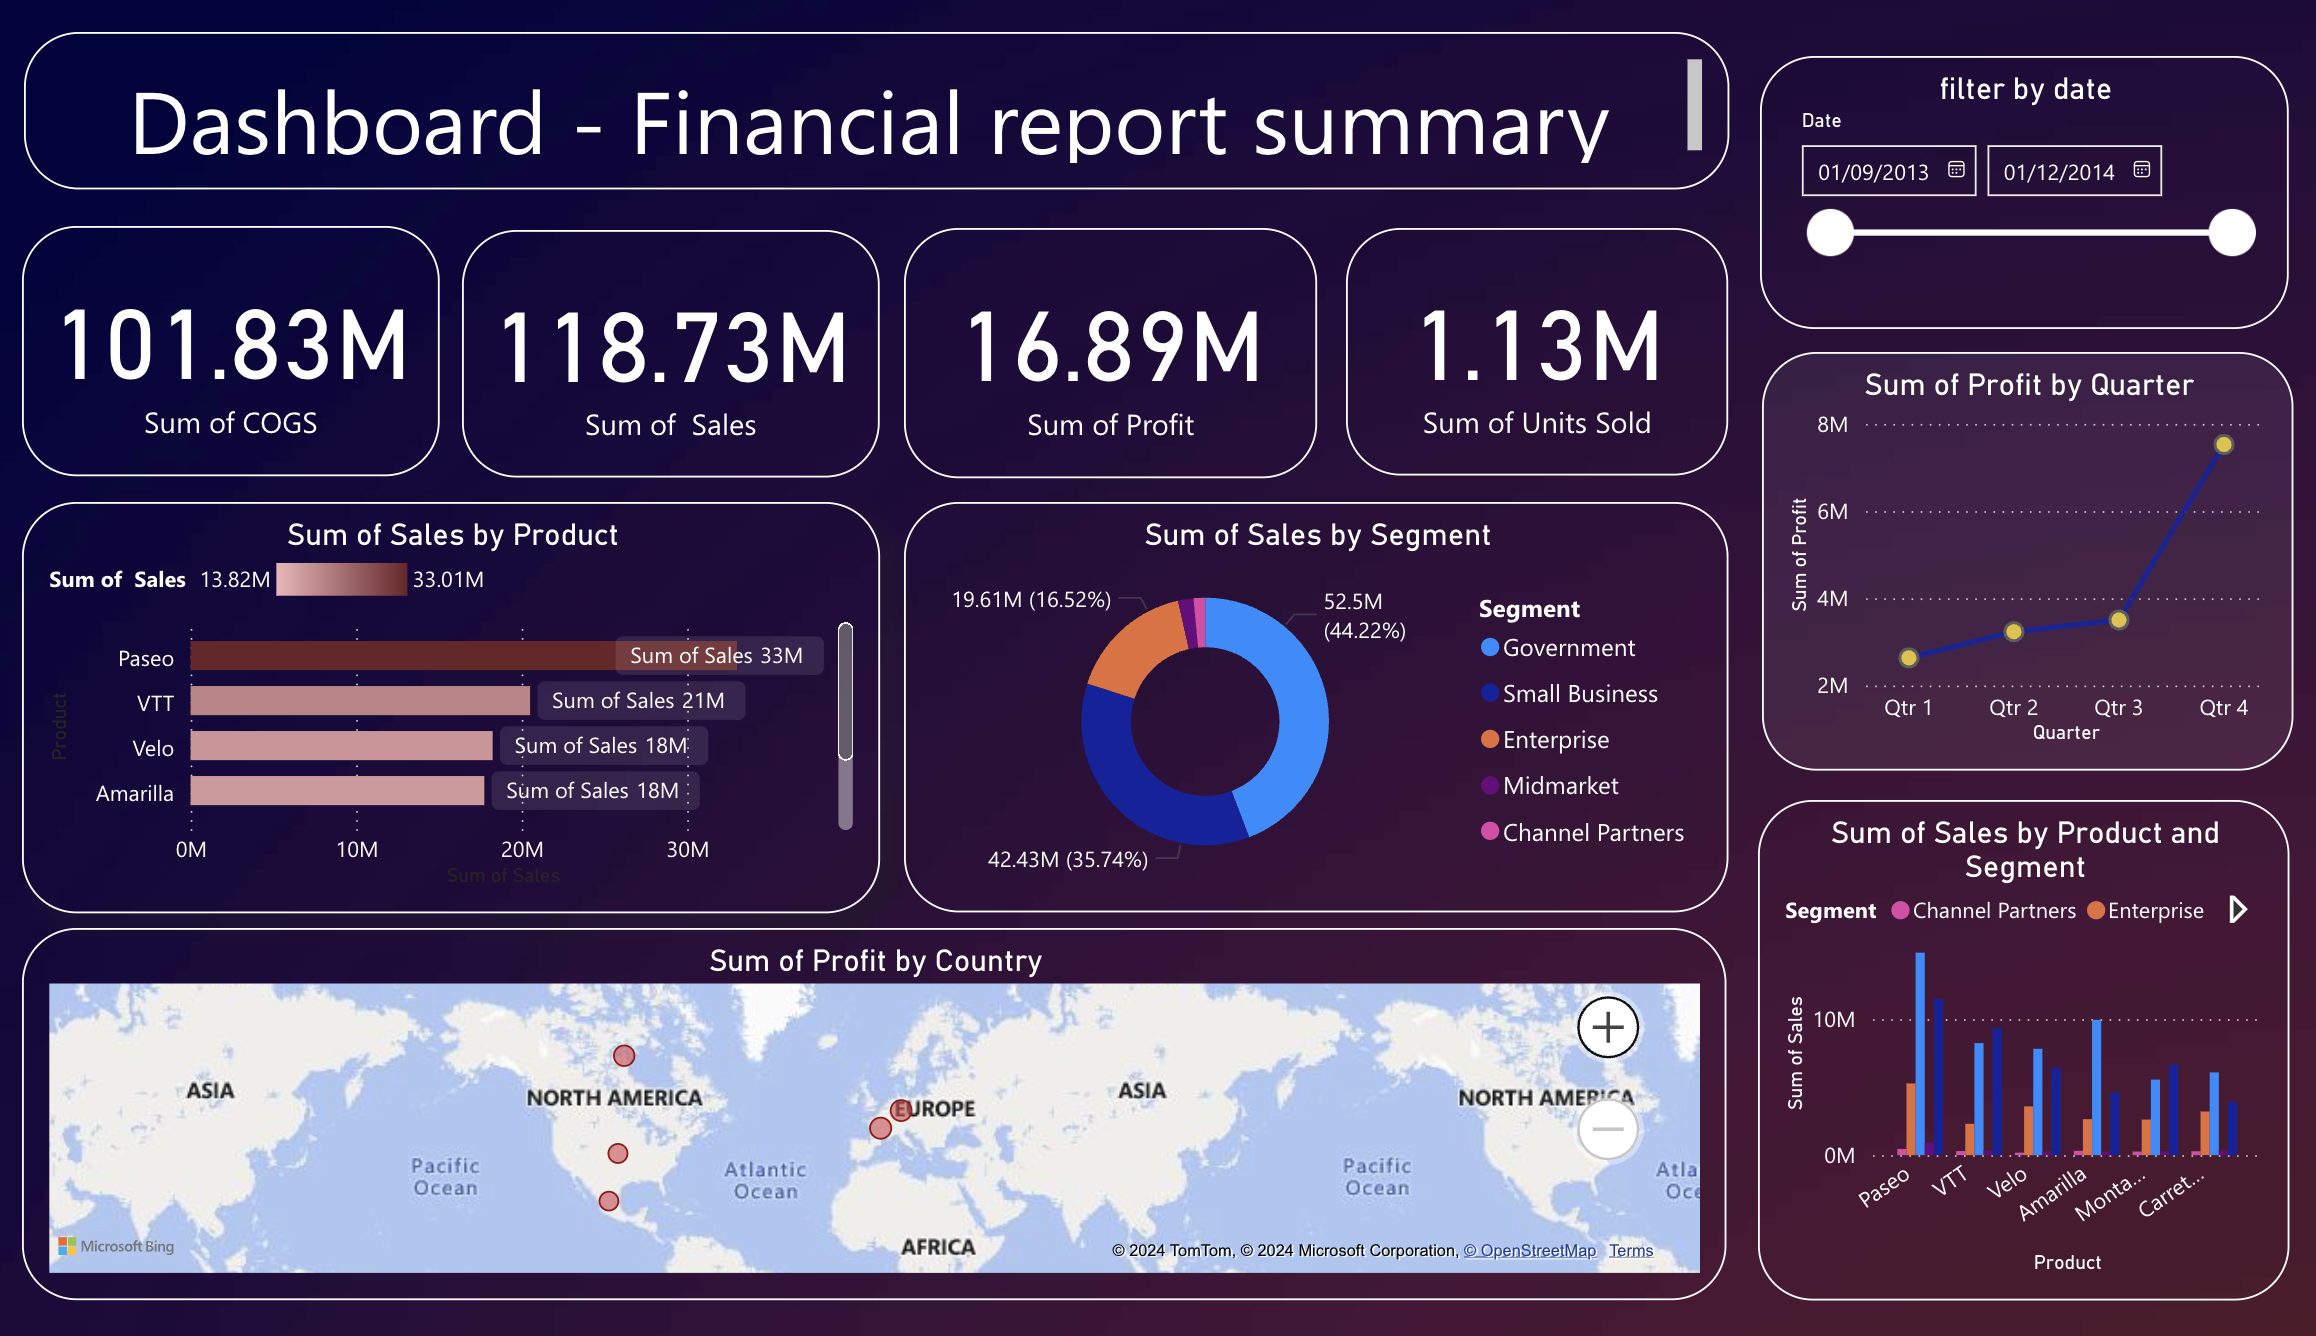

Layout of this report page (visuals, bound fields, positions):
{"tool":"powerbi","page":{"name":"Page 1","canvas":[1280,720],"ordinal":0},"visuals":[{"type":"textbox","box":[23.2,9.3,936.8,86.6],"z":0},{"type":"card","fields":{"Values":["Sum(financials. Sales)"]},"box":[264.2,117.1,229.4,136.1],"z":1000},{"type":"card","fields":{"Values":["Sum(financials.COGS)"]},"box":[22.2,115.5,229.4,137.7],"z":2000},{"type":"card","fields":{"Values":["Sum(financials.Profit)"]},"box":[507.1,115.9,227.2,137.6],"z":3000},{"type":"card","fields":{"Values":["Sum(financials.Units Sold)"]},"box":[749.8,115.9,210.2,136],"z":4000},{"type":"clusteredBarChart","fields":{"Y":["Sum(financials. Sales)"],"Category":["financials.Product"]},"box":[22.5,266.8,471.6,225.9],"z":5000},{"type":"donutChart","fields":{"Y":["Sum(financials. Sales)"],"Category":["financials.Segment"]},"box":[507.1,267.4,452.9,225.7],"z":6000},{"type":"map","fields":{"Category":["financials.Country"],"Size":["Sum(financials.Profit)"]},"box":[22.5,500.6,936.6,204.7],"z":7000},{"type":"clusteredColumnChart","fields":{"Y":["Sum(financials. Sales)"],"Category":["financials.Product"],"Series":["financials.Segment"]},"box":[976.2,430.6,291.9,274.8],"z":8000},{"type":"slicer","title":"filter by date","fields":{"Values":["financials.Date"]},"box":[977.2,21.9,290.3,149.9],"z":9000},{"type":"lineChart","fields":{"Y":["Sum(financials.Profit)"],"Category":["financials.Date.Variation.Date Hierarchy.Year","financials.Date.Variation.Date Hierarchy.Quarter","financials.Date.Variation.Date Hierarchy.Month","financials.Date.Variation.Date Hierarchy.Day"]},"box":[977.5,184.9,291.9,229.8],"z":10000}]}

Visuals, with their boxes in screenshot pixels (x1, y1, x2, y2), scaled from the page's 1280x720 canvas onto the 2316x1336 screenshot:
textbox: <region>42, 17, 1737, 178</region>
card - Sum(financials. Sales): <region>478, 217, 893, 470</region>
card - Sum(financials.COGS): <region>40, 214, 455, 470</region>
card - Sum(financials.Profit): <region>918, 215, 1329, 470</region>
card - Sum(financials.Units Sold): <region>1357, 215, 1737, 467</region>
clusteredBarChart - Sum(financials. Sales) x financials.Product: <region>41, 495, 894, 914</region>
donutChart - Sum(financials. Sales) x financials.Segment: <region>918, 496, 1737, 915</region>
map - financials.Country x Sum(financials.Profit): <region>41, 929, 1735, 1309</region>
clusteredColumnChart - Sum(financials. Sales) x financials.Product: <region>1766, 799, 2294, 1309</region>
"filter by date" slicer: <region>1768, 41, 2293, 319</region>
lineChart - Sum(financials.Profit) x financials.Date.Variation.Date Hierarchy.Year: <region>1769, 343, 2297, 769</region>
